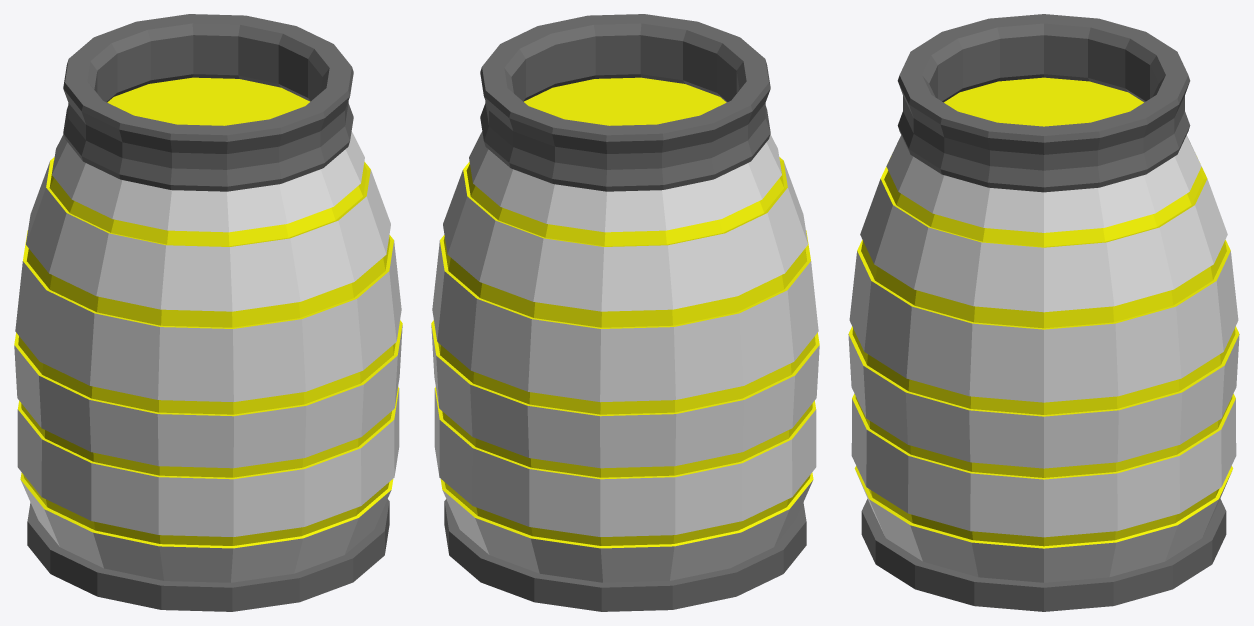
The model's file is Lantern.fbx.
3 views of the same model, side by side, from view 1: azimuth 30°, elevation 25°; view 2: azimuth 150°, elevation 25°; view 3: azimuth 270°, elevation 25° (orthographic).
Parts seen in each view (by area): view 1: Circle.017, Circle.019, Circle.018; view 2: Circle.017, Circle.019, Circle.018; view 3: Circle.017, Circle.019, Circle.018.
Part boxes in pixels (x1=…): Circle.017: x1=14, y1=77, x2=402, y2=582; Circle.019: x1=63, y1=14, x2=353, y2=191; Circle.018: x1=27, y1=499, x2=389, y2=611; Circle.017: x1=431, y1=77, x2=819, y2=582; Circle.019: x1=480, y1=14, x2=770, y2=191; Circle.018: x1=444, y1=499, x2=806, y2=611; Circle.017: x1=848, y1=77, x2=1239, y2=582; Circle.019: x1=897, y1=14, x2=1190, y2=192; Circle.018: x1=861, y1=499, x2=1226, y2=611.
Size of the model in its own units: 236 by 307 by 236.
